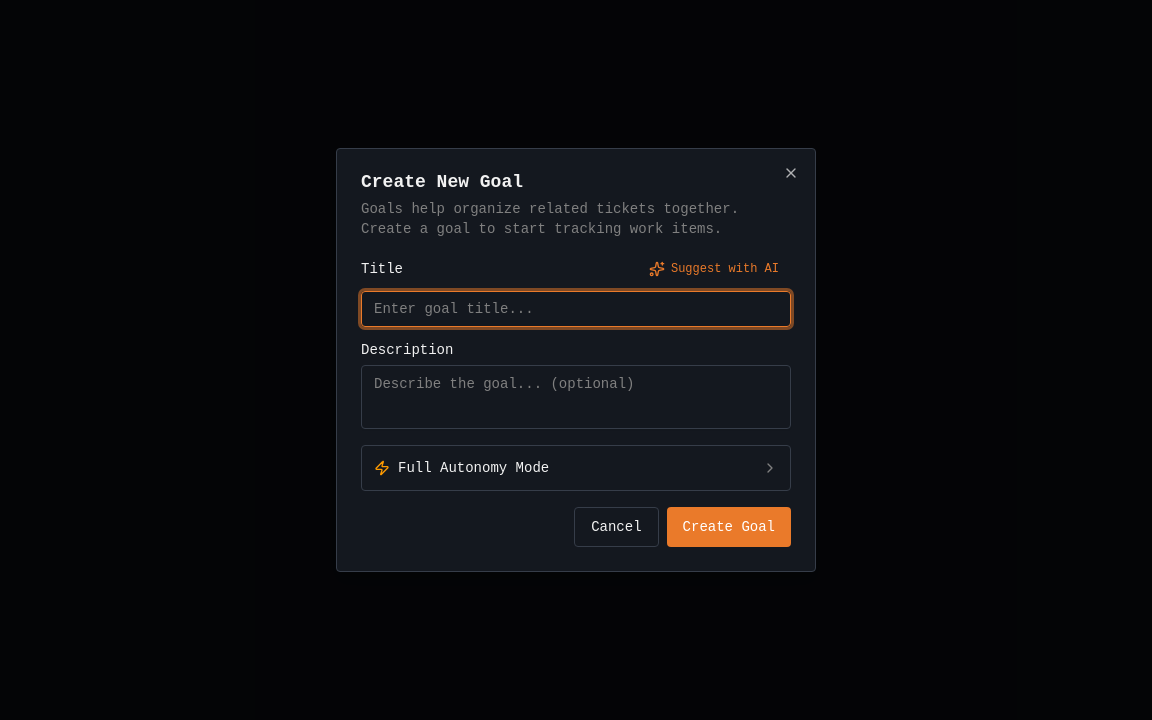
Test: CreateGoalDialog › shows Full Autonomy Mode section that expands on click
Check: the text "Full Autonomy Mode" is shown, box [374, 458, 549, 478]
Note: Click to expand the autonomy section
Click the button "Full Autonomy Mode" at (474, 468), box [362, 446, 790, 490]
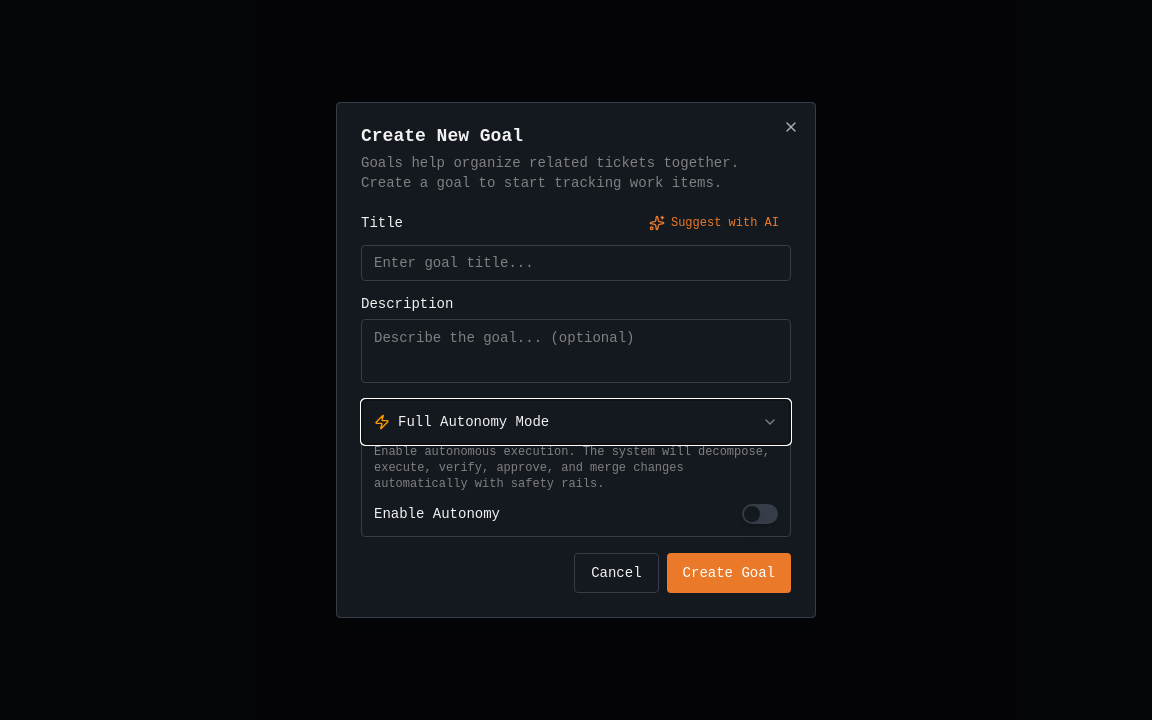
Check: the text "Enable Autonomy" is shown, box [374, 504, 500, 524]
Check: the text "Enable autonomous execution" is shown, box [374, 445, 770, 491]
